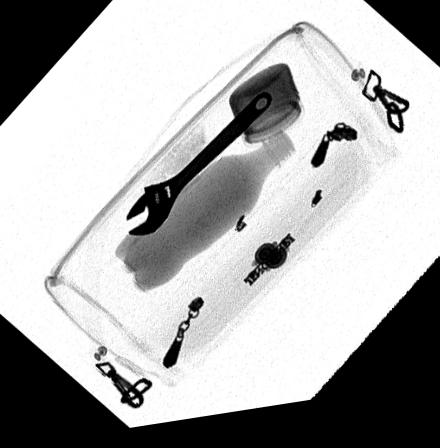Wrench: (125, 97, 271, 241)
